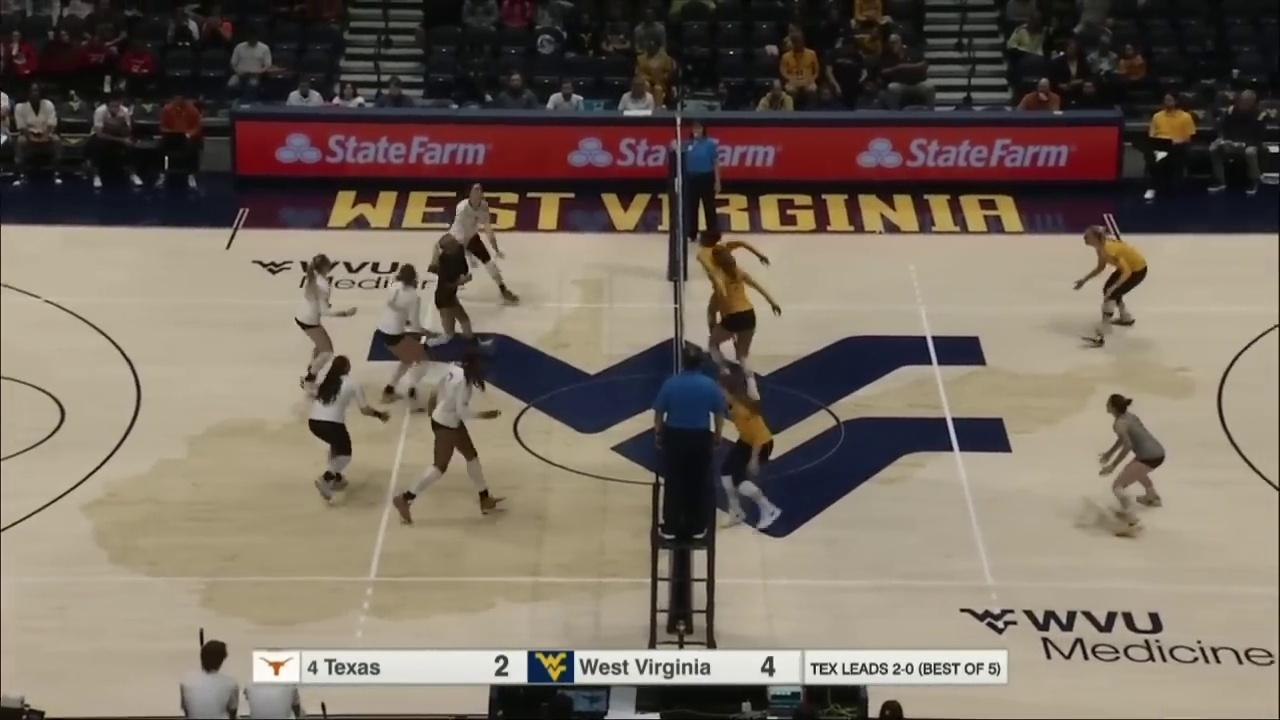player: (401, 350, 506, 522), (706, 365, 782, 533), (302, 355, 386, 502), (699, 237, 771, 404), (432, 182, 518, 316), (1090, 396, 1166, 540), (1074, 224, 1153, 351), (693, 224, 758, 374), (290, 252, 353, 397), (374, 263, 434, 405), (420, 230, 482, 361)
refree: (647, 340, 729, 545), (670, 115, 725, 249)
